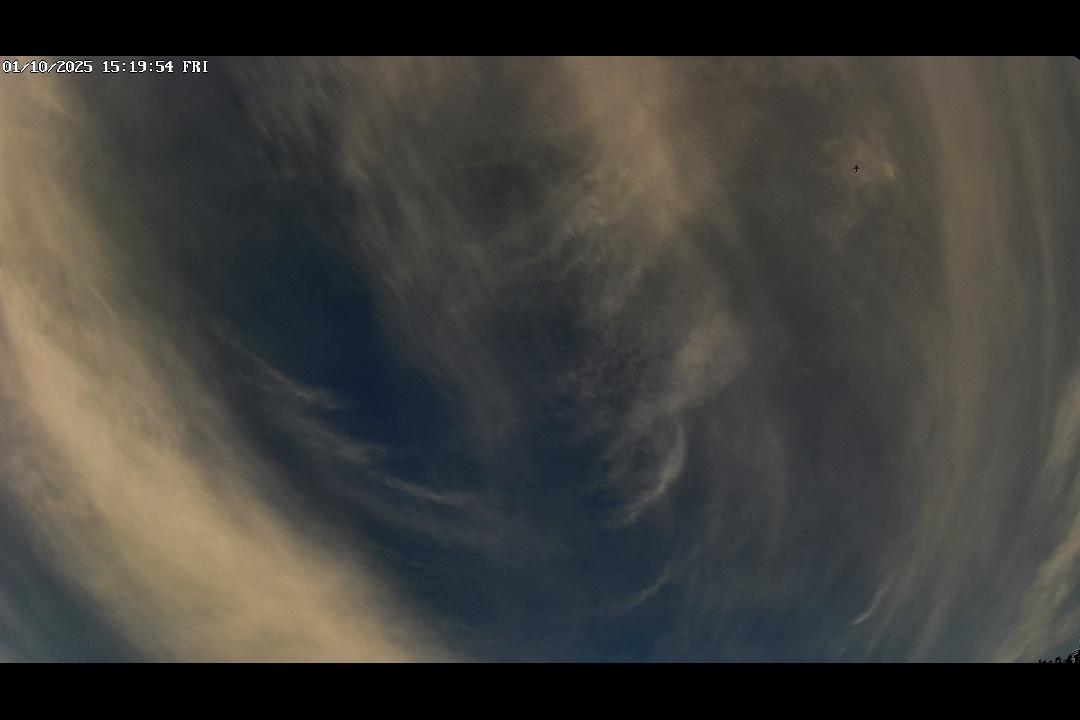Plane: (851, 162, 863, 174)
